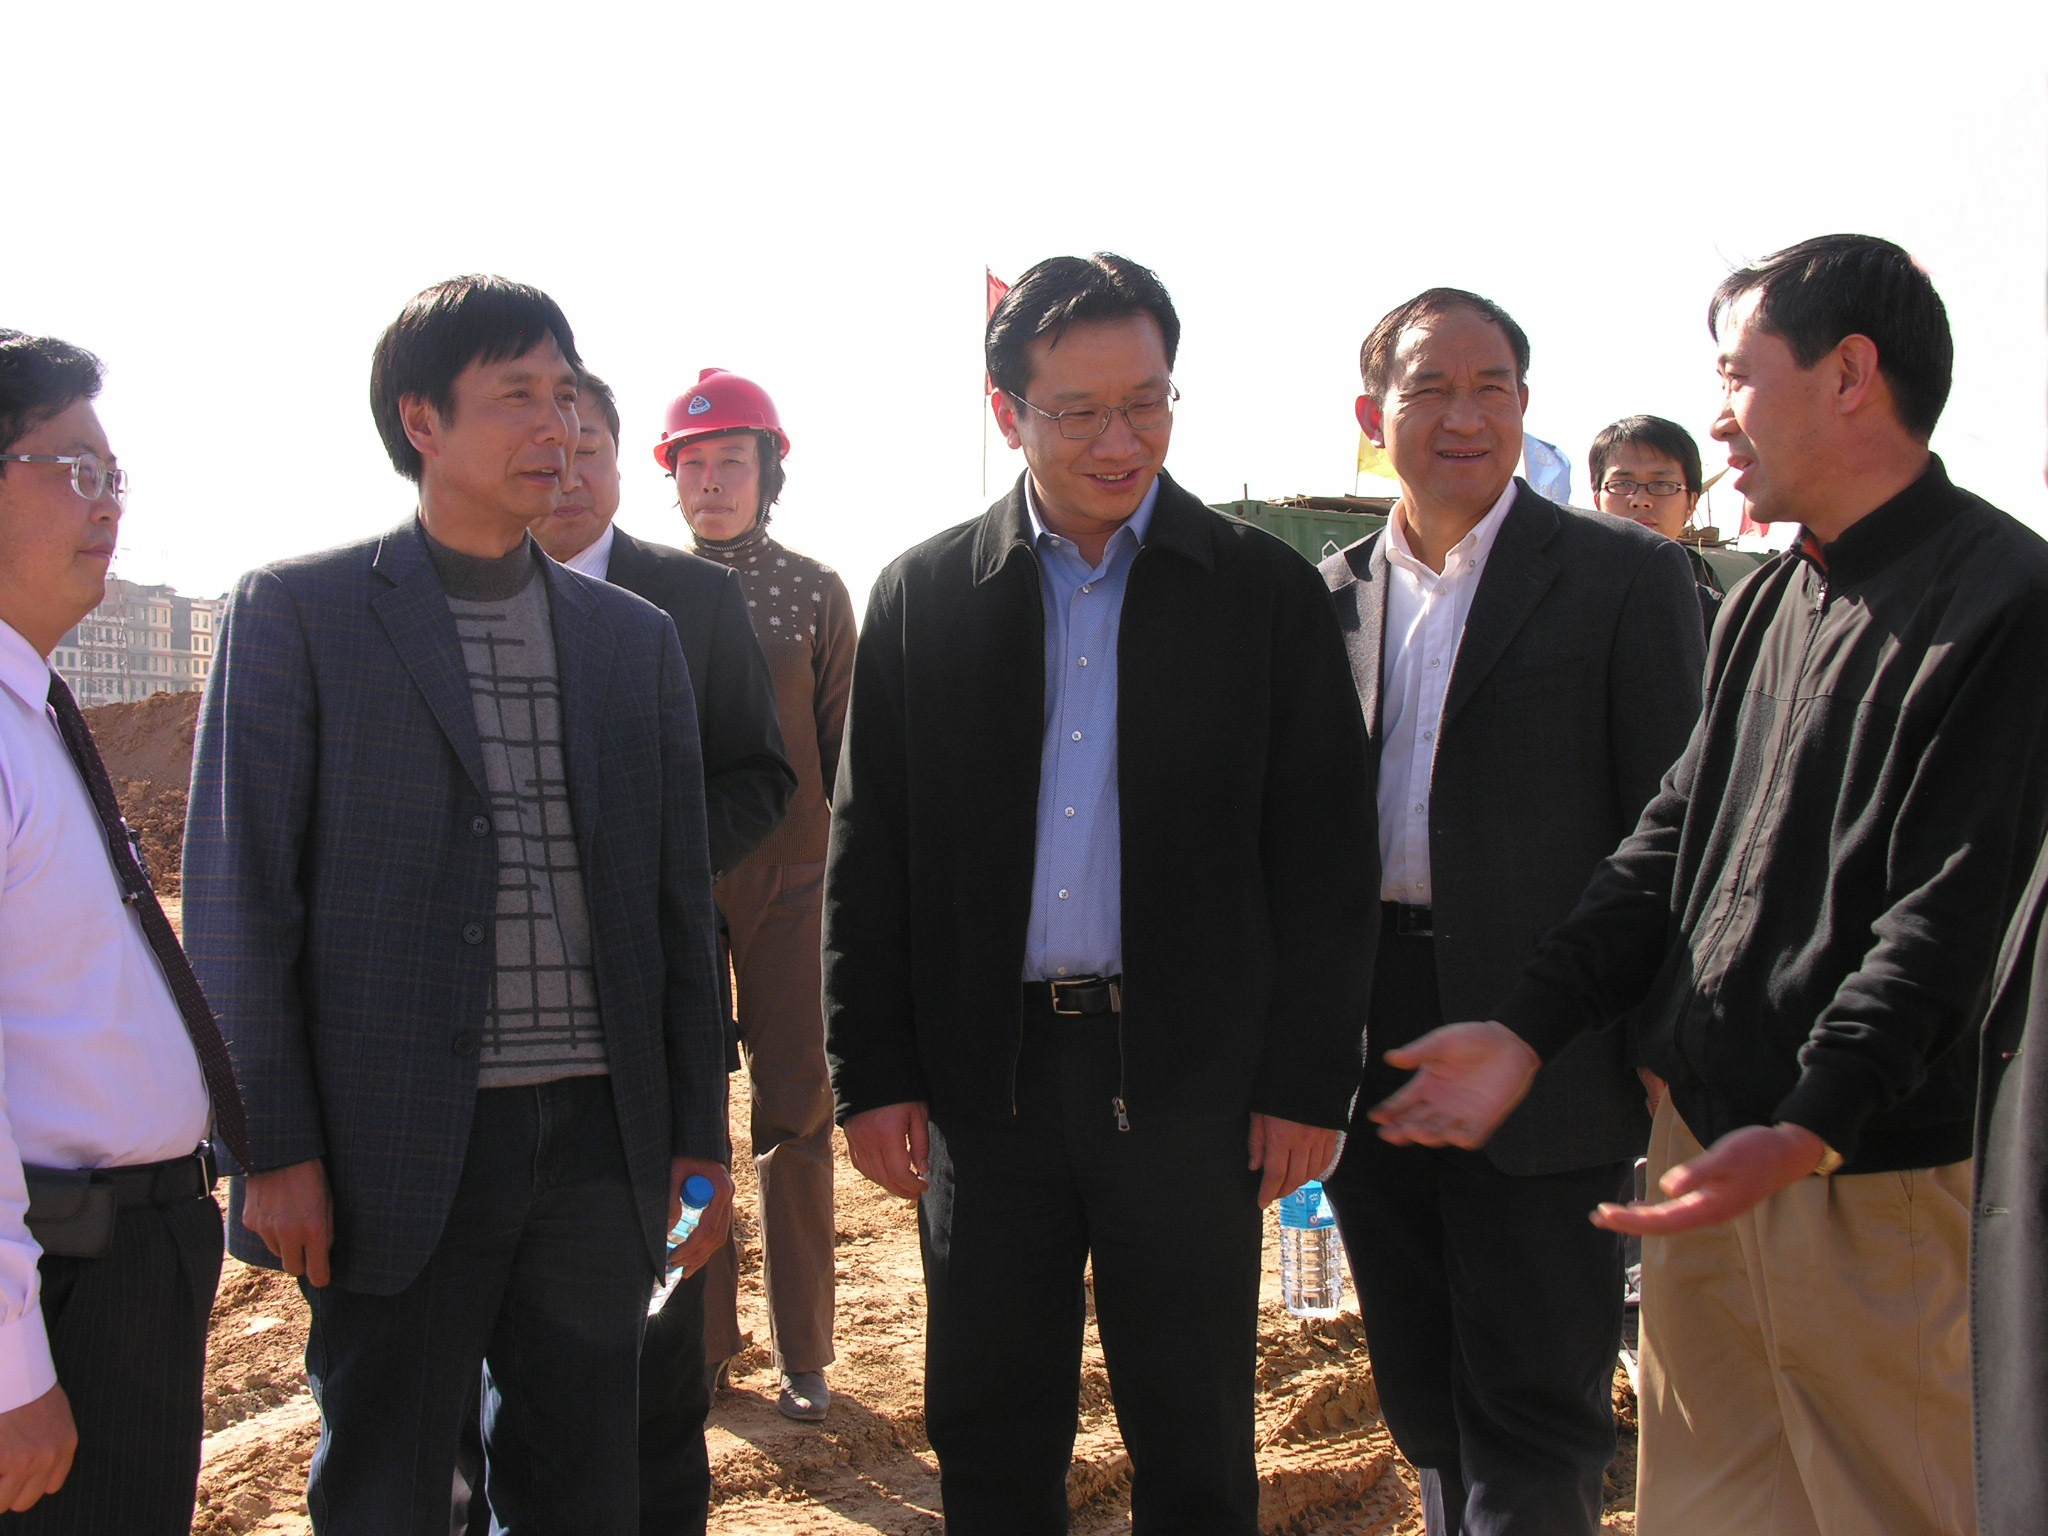none: (1696, 224, 1966, 523), (358, 266, 585, 536), (993, 248, 1200, 515), (3, 323, 140, 657), (1355, 278, 1542, 515), (510, 366, 624, 558), (1579, 400, 1705, 544)
red: (651, 363, 792, 549)
